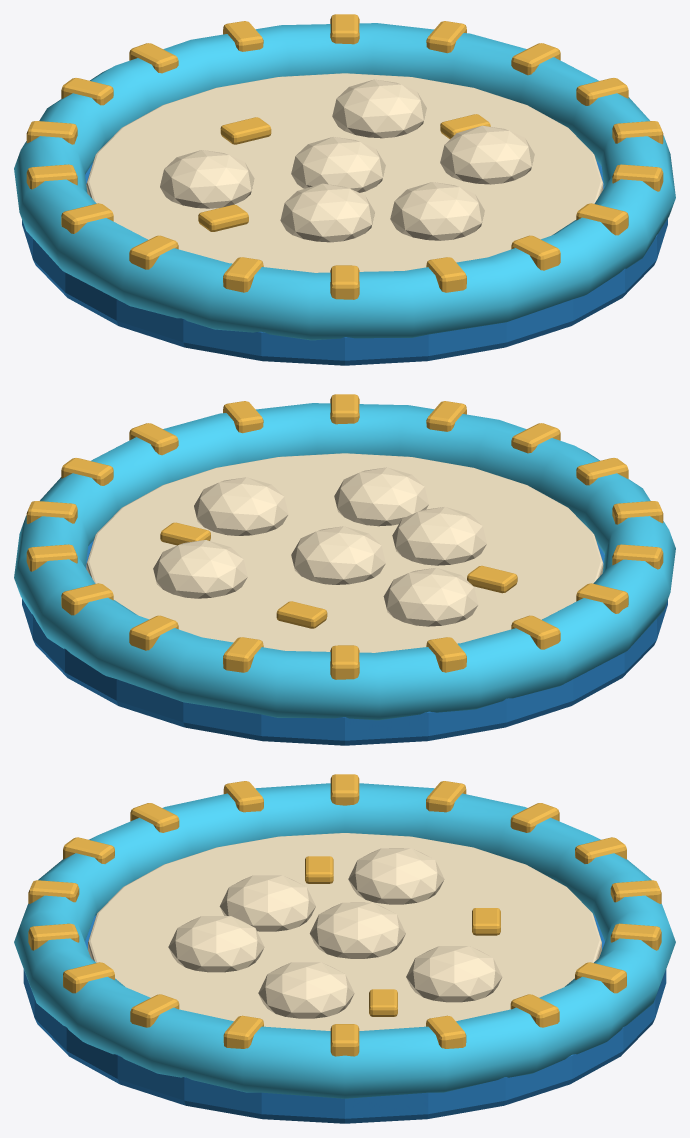
Rendered from ram_pizza.glb.
3 views of the same model, one above another, from view 1: azimuth 30°, elevation 25°; view 2: azimuth 150°, elevation 25°; view 3: azimuth 270°, elevation 25° (orthographic).
Parts seen in each view (by area): view 1: Cream dollop, Crust, Chip fleck, Pizza base; view 2: Cream dollop, Crust, Chip fleck, Pizza base; view 3: Cream dollop, Crust, Chip fleck, Pizza base.
Boxes of the visible parts, box(x1,y1,x2,y2) form: Cream dollop: box(86, 73, 603, 272); Crust: box(14, 23, 675, 340); Chip fleck: box(26, 14, 663, 299); Pizza base: box(22, 160, 667, 365); Cream dollop: box(86, 453, 603, 652); Crust: box(14, 403, 675, 720); Chip fleck: box(26, 394, 663, 679); Pizza base: box(22, 540, 667, 745); Cream dollop: box(88, 833, 601, 1030); Crust: box(14, 783, 675, 1098); Chip fleck: box(28, 774, 661, 1056); Pizza base: box(23, 915, 666, 1123).
Size of the model in its own units: 1.03 by 0.145 by 1.03.
